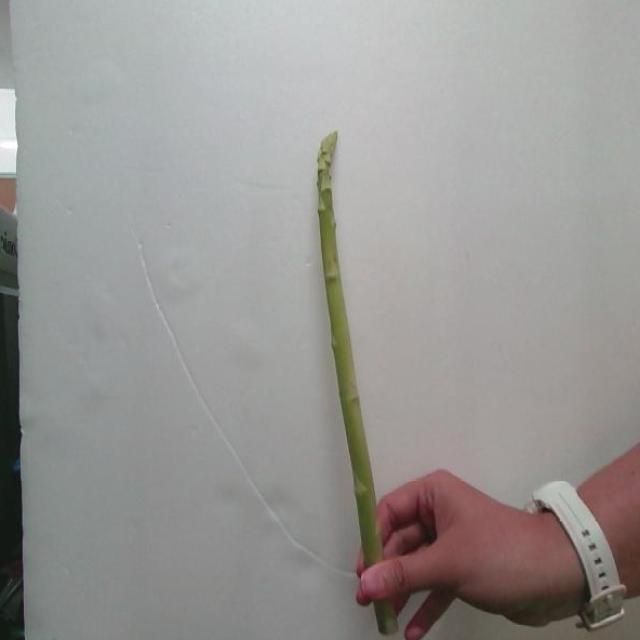aspargus: (315, 133, 380, 570)
